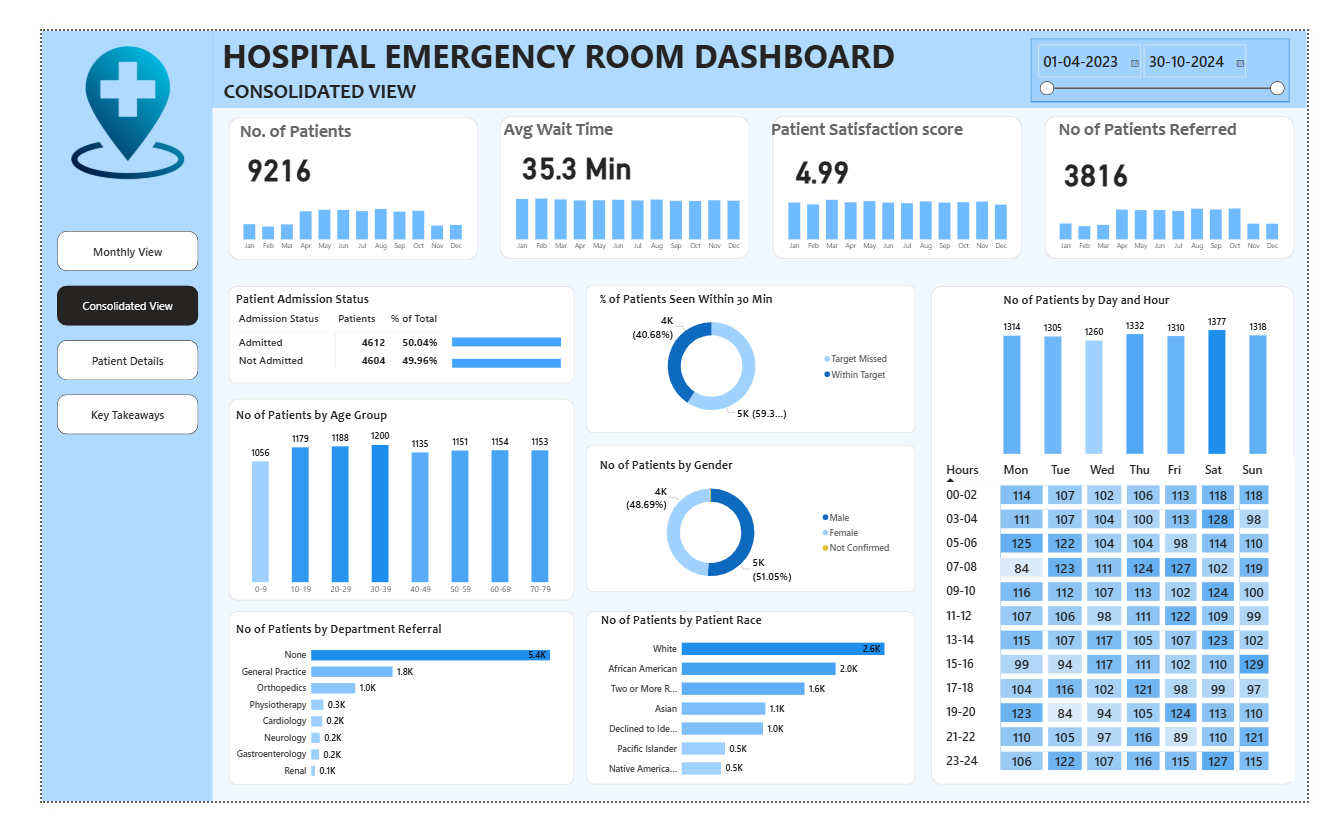

This screenshot's page, from the dashboard's own definition file:
{"tool":"powerbi","page":{"name":"Consolidated View","canvas":[2300,1400],"ordinal":1},"visuals":[{"type":"shape","box":[0,0,310,1400.5],"z":0},{"type":"shape","box":[309.2,0,1990,140],"z":1000},{"type":"textbox","box":[323.9,0,1249.5,89.8],"z":2000},{"type":"textbox","box":[325,82.5,457.5,57.5],"z":3000},{"type":"shape","box":[337.5,157.5,455,260],"z":4000},{"type":"card","fields":{"Values":["Hospital ER_Data.No of Patients"]},"box":[362.5,197.5,135,100],"z":5000},{"type":"slicer","fields":{"Values":["Date Table.Date"]},"box":[1797.5,12.5,470,115],"z":6000},{"type":"textbox","box":[1362.5,257.5,300,52.5],"z":7000},{"type":"columnChart","fields":{"Category":["Date Table.Month Name"],"Y":["Hospital ER_Data.No of Patients"]},"box":[347.5,285,435,125],"z":8000},{"type":"shape","box":[832.5,155,455,260],"z":9000},{"type":"shape","box":[1327.5,155,455,260],"z":10000},{"type":"shape","box":[1822.5,155,455,260],"z":11000},{"type":"card","fields":{"Values":["Hospital ER_Data.Avg Wait Time"]},"box":[850,200,245,85],"z":12000},{"type":"card","fields":{"Values":["Hospital ER_Data.Satisfaction Score"]},"box":[1362.5,200,110,100],"z":13000},{"type":"textbox","box":[355,157.5,275,60],"z":14000},{"type":"textbox","box":[835,155,267.5,60],"z":15000},{"type":"textbox","box":[1842.5,155,415,65],"z":16000},{"type":"textbox","box":[1320,155,392.5,65],"z":17000},{"type":"columnChart","fields":{"Category":["Date Table.Month Name"],"Y":["Avg(Hospital ER_Data.Patient Waittime)"]},"box":[842.5,285,445,125],"z":18000},{"type":"columnChart","fields":{"Category":["Date Table.Month Name"],"Y":["Hospital ER_Data.Satisfaction Score"]},"box":[1337.5,285,435,125],"z":19000},{"type":"columnChart","fields":{"Category":["Date Table.Month Name"],"Y":["Hospital ER_Data.No of Patients Referred"]},"box":[1832.5,285,435,125],"z":20000},{"type":"card","fields":{"Values":["Hospital ER_Data.No of Patients Referred"]},"box":[1845,207.5,142.5,100],"z":21000},{"type":"shape","box":[337.5,462.5,630,177.5],"z":22000},{"type":"pivotTable","title":"Patient Admission Status","fields":{"Rows":["Hospital ER_Data.Admission Status"],"Values":["Hospital ER_Data.No of Patients1","Hospital ER_Data.No of Patients"]},"box":[347.5,472.5,635,167.5],"z":23000},{"type":"barChart","fields":{"Category":["Hospital ER_Data.Admission Status"],"Y":["Hospital ER_Data.No of Patients"]},"box":[740,525,267.5,115],"z":24000},{"type":"shape","box":[337.5,667.5,630,368],"z":25000},{"type":"clusteredColumnChart","fields":{"Category":["Hospital ER_Data.Age Group"],"Y":["Hospital ER_Data.No of Patients"]},"box":[347.7,684.1,609.1,352.3],"z":26000},{"type":"shape","box":[338.3,1055.3,629.8,317],"z":27000},{"type":"clusteredBarChart","fields":{"Category":["Hospital ER_Data.Department Referral"],"Y":["Hospital ER_Data.No of Patients"]},"box":[347.7,1072.7,609.1,300],"z":28000},{"type":"shape","box":[989.4,461.7,600,270],"z":29000},{"type":"donutChart","title":"% of Patients Seen Within 30 Min","fields":{"Category":["Hospital ER_Data.WaitTime Status"],"Y":["Hospital ER_Data.No of Patients"]},"box":[1009.1,472.7,540.9,245.5],"z":30000},{"type":"shape","box":[988.6,752.3,600,268.2],"z":31000},{"type":"donutChart","title":"No of Patients by Gender","fields":{"Y":["Hospital ER_Data.No of Patients"],"Category":["Hospital ER_Data.Patient Gender"]},"box":[1009.1,775,545.5,245.5],"z":32000},{"type":"shape","box":[988.6,1054.5,600,315.9],"z":33000},{"type":"clusteredBarChart","fields":{"Y":["Hospital ER_Data.No of Patients"],"Category":["Hospital ER_Data.Patient Race"]},"box":[1011.4,1056.8,554.5,315.9],"z":34000},{"type":"shape","box":[1615.9,463.6,661.4,906.8],"z":35000},{"type":"pivotTable","fields":{"Rows":["Hospital ER_Data.Waittime Interval"],"Columns":["Date Table.Day Name"],"Values":["Hospital ER_Data.No of Patients"]},"box":[1634.1,775,643.2,588.6],"z":36000},{"type":"columnChart","title":"No of Patients by Day and Hour","fields":{"Category":["Date Table.Day Name"],"Y":["Hospital ER_Data.No of Patients"]},"box":[1743.2,475,490.9,300],"z":37000},{"type":"pageNavigator","box":[27.5,362.5,257.5,370],"z":38000},{"type":"image","box":[27.5,27.5,257.5,242.5],"z":39000}]}

Visuals, with their boxes on the page's 2300x1400 design canvas (x1, y1, x2, y2). These are canvas units, not pixel positions in the 1338x840 screenshot, which may show the page scaled, cropped or inside an application window:
shape: 0,0,310,1400
shape: 309,0,2299,140
textbox: 324,0,1573,90
textbox: 325,82,782,140
shape: 338,158,792,418
card - Hospital ER_Data.No of Patients: 362,198,498,298
slicer - Date Table.Date: 1798,12,2268,128
textbox: 1362,258,1662,310
columnChart - Date Table.Month Name x Hospital ER_Data.No of Patients: 348,285,782,410
shape: 832,155,1288,415
shape: 1328,155,1782,415
shape: 1822,155,2278,415
card - Hospital ER_Data.Avg Wait Time: 850,200,1095,285
card - Hospital ER_Data.Satisfaction Score: 1362,200,1472,300
textbox: 355,158,630,218
textbox: 835,155,1102,215
textbox: 1842,155,2258,220
textbox: 1320,155,1712,220
columnChart - Date Table.Month Name x Avg(Hospital ER_Data.Patient Waittime): 842,285,1288,410
columnChart - Date Table.Month Name x Hospital ER_Data.Satisfaction Score: 1338,285,1772,410
columnChart - Date Table.Month Name x Hospital ER_Data.No of Patients Referred: 1832,285,2268,410
card - Hospital ER_Data.No of Patients Referred: 1845,208,1988,308
shape: 338,462,968,640
"Patient Admission Status" pivotTable: 348,472,982,640
barChart - Hospital ER_Data.Admission Status x Hospital ER_Data.No of Patients: 740,525,1008,640
shape: 338,668,968,1036
clusteredColumnChart - Hospital ER_Data.Age Group x Hospital ER_Data.No of Patients: 348,684,957,1036
shape: 338,1055,968,1372
clusteredBarChart - Hospital ER_Data.Department Referral x Hospital ER_Data.No of Patients: 348,1073,957,1373
shape: 989,462,1589,732
"% of Patients Seen Within 30 Min" donutChart: 1009,473,1550,718
shape: 989,752,1589,1020
"No of Patients by Gender" donutChart: 1009,775,1555,1020
shape: 989,1054,1589,1370
clusteredBarChart - Hospital ER_Data.No of Patients x Hospital ER_Data.Patient Race: 1011,1057,1566,1373
shape: 1616,464,2277,1370
pivotTable - Hospital ER_Data.Waittime Interval x Date Table.Day Name: 1634,775,2277,1364
"No of Patients by Day and Hour" columnChart: 1743,475,2234,775
pageNavigator: 28,362,285,732
image: 28,28,285,270
